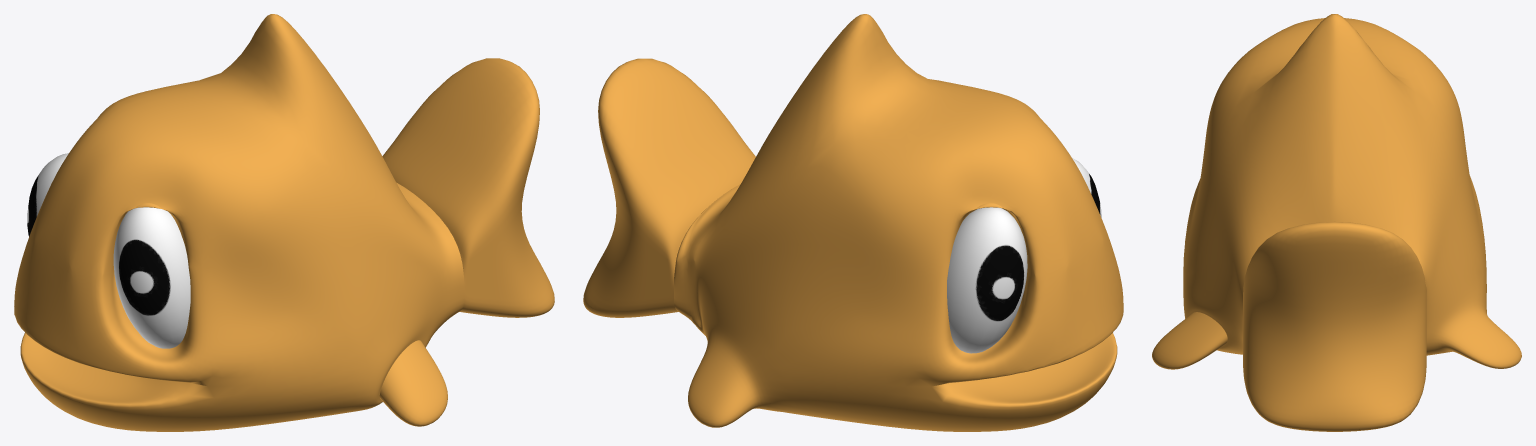
Rendered from Fish.fbx.
3 views of the same model, side by side, from view 1: azimuth 30°, elevation 25°; view 2: azimuth 150°, elevation 25°; view 3: azimuth 270°, elevation 25° (orthographic). The views are drawn at different scales.
Visible parts, largest first — view 1: pCube1, pSphere3, pSphere2; view 2: pCube1, pSphere2; view 3: pCube1.
Part boxes in pixels (box(x1,y1,x2,y2)): pCube1: box(14, 14, 554, 431); pSphere3: box(113, 207, 190, 348); pSphere2: box(27, 153, 68, 236); pCube1: box(583, 14, 1123, 431); pSphere2: box(947, 207, 1027, 353); pCube1: box(1152, 14, 1521, 431).
Bounding box in the file's own units: 1.66 × 1.16 × 1.16.
3 materials, 3 textured.
